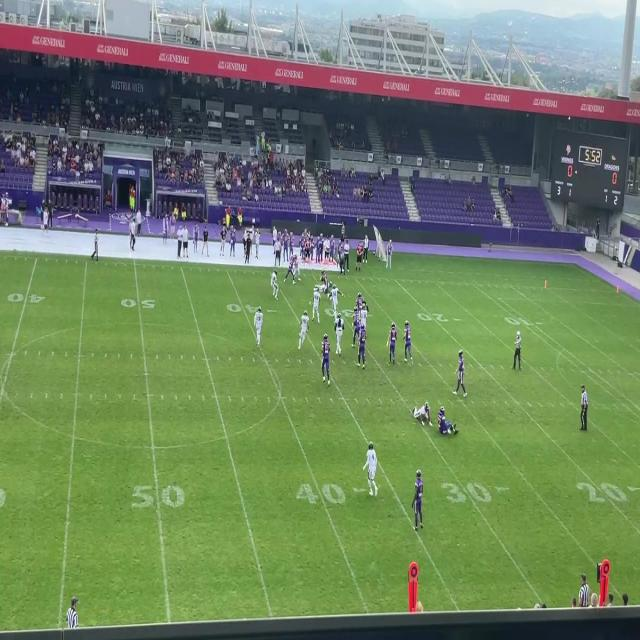2: (573, 479, 615, 506)
3: (439, 478, 468, 509)
4: (295, 478, 322, 514)
5: (128, 480, 156, 517)
american-football-players: (412, 469, 425, 532), (365, 444, 380, 498), (318, 337, 332, 385), (438, 408, 459, 437), (385, 322, 399, 365), (454, 350, 466, 398), (358, 324, 368, 371), (404, 320, 414, 364), (412, 402, 431, 425), (334, 315, 344, 358), (298, 313, 309, 352), (283, 255, 297, 285), (310, 288, 321, 323), (356, 304, 367, 339), (255, 305, 264, 347), (352, 306, 362, 342), (331, 286, 341, 317), (292, 255, 302, 284), (356, 293, 367, 319), (270, 274, 280, 301), (318, 269, 327, 294), (316, 280, 332, 294)
